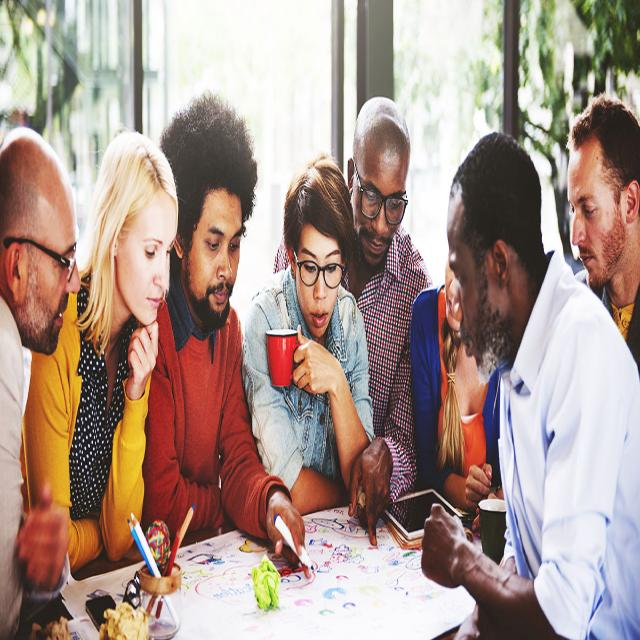adult: (425, 132, 640, 640), (146, 105, 308, 565), (24, 124, 174, 591), (240, 161, 371, 537), (0, 125, 76, 640), (336, 103, 423, 537), (557, 105, 640, 349)
